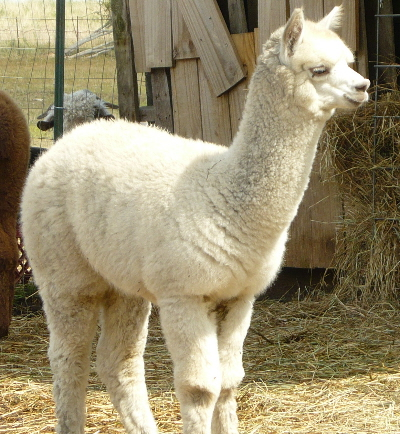alpaca: (17, 4, 369, 434)
